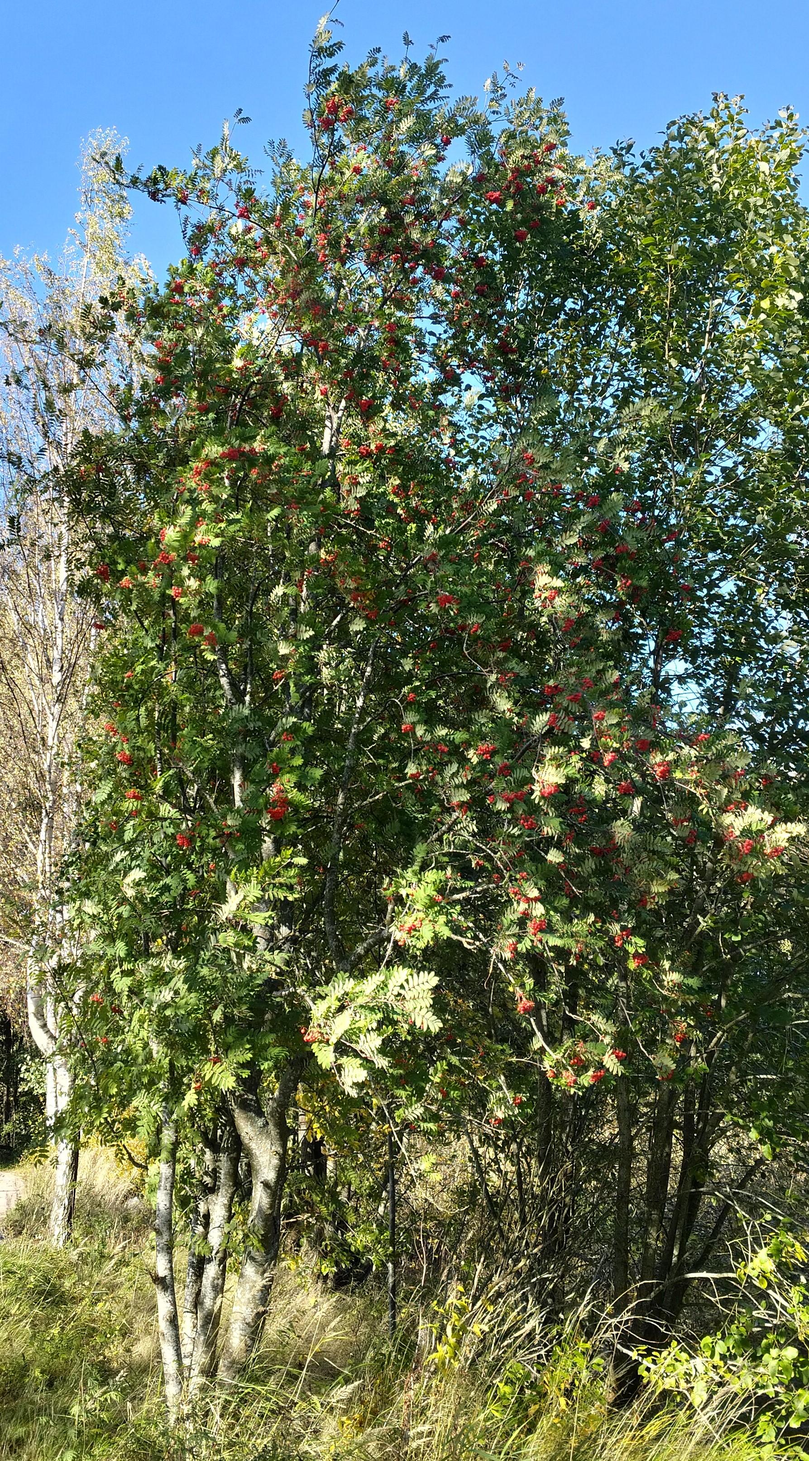Rowan: (19, 31, 482, 1440), (476, 115, 809, 1354)
